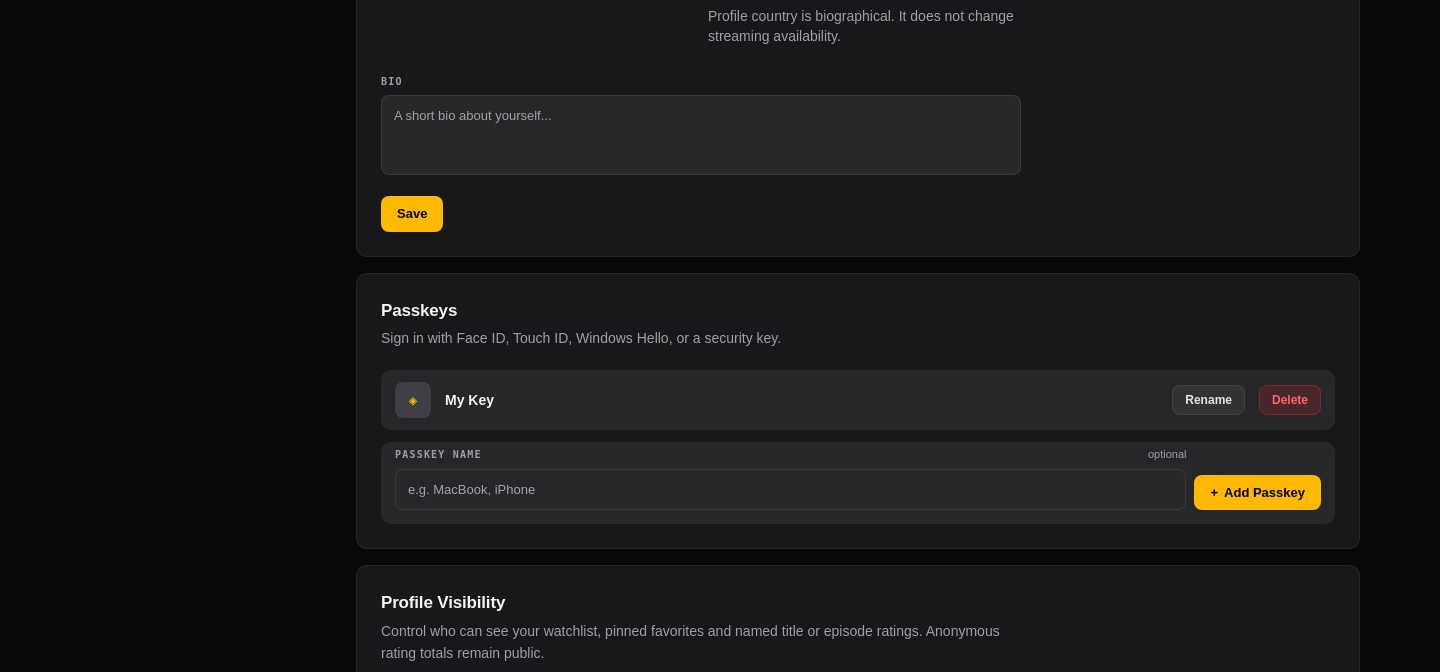
PasskeySection › delete success: shows success message and removes passkey from list
(page scrolled)
expect the text "My Key" is shown: met, box [445,392,494,408]
Click the button "Delete": (1290, 400) [1259,385,1321,415]
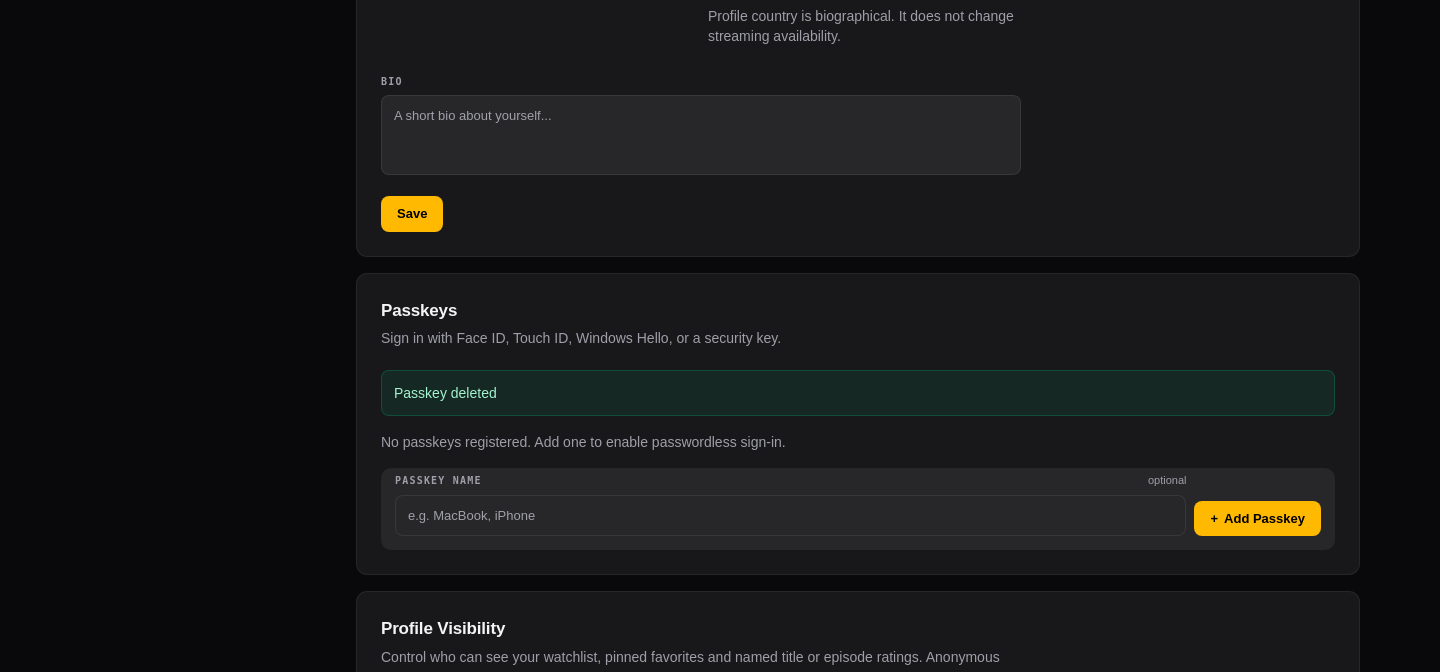
expect the text "Passkey deleted" is shown: met, box [381,370,1335,416]
expect the text "My Key" is gone: met
